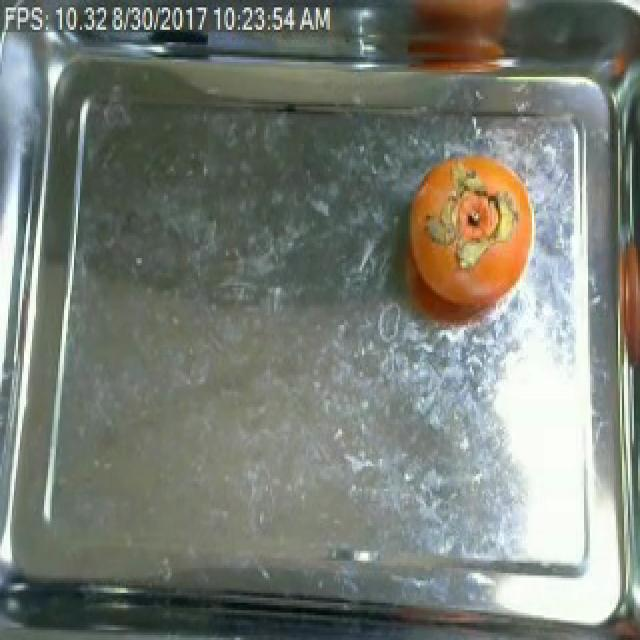Fruit: (400, 142, 538, 338), (396, 0, 522, 82), (610, 228, 640, 390)
